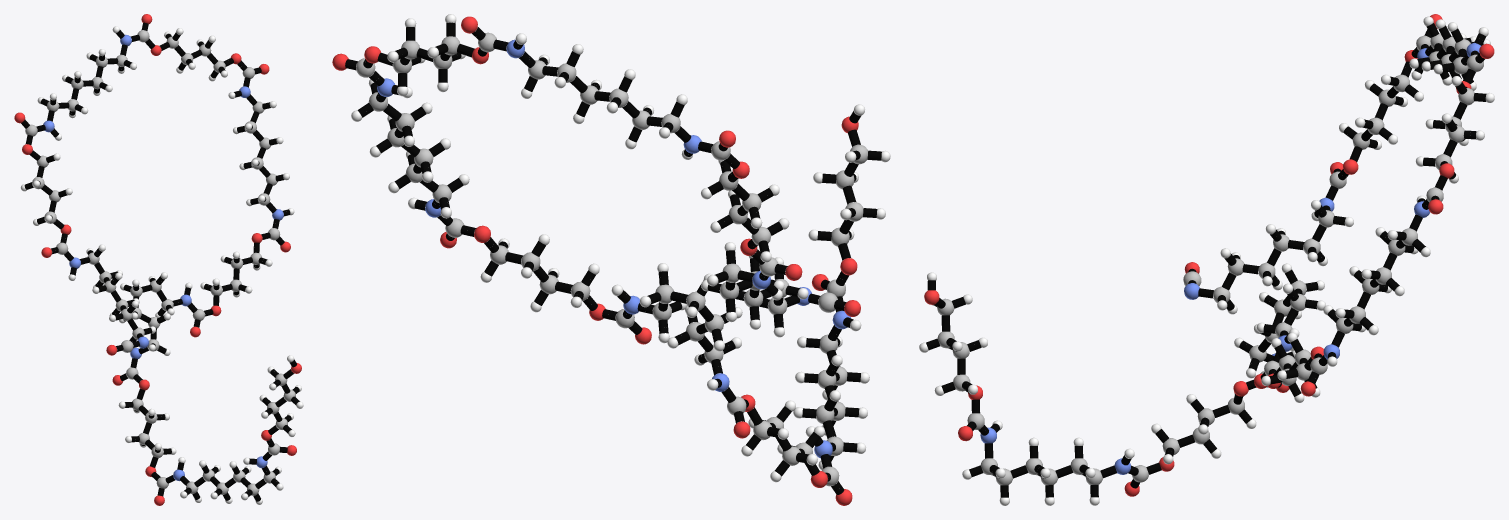
The model's file is PolyurethanLinearBall.glb.
The picture shows the model from 3 angles, left to right: view 1: azimuth 30°, elevation 25°; view 2: azimuth 150°, elevation 25°; view 3: azimuth 270°, elevation 25°; orthographic projection. The views are drawn at different scales.
Bounding box in the file's own units: 1.57 × 2.13 × 2.1.
